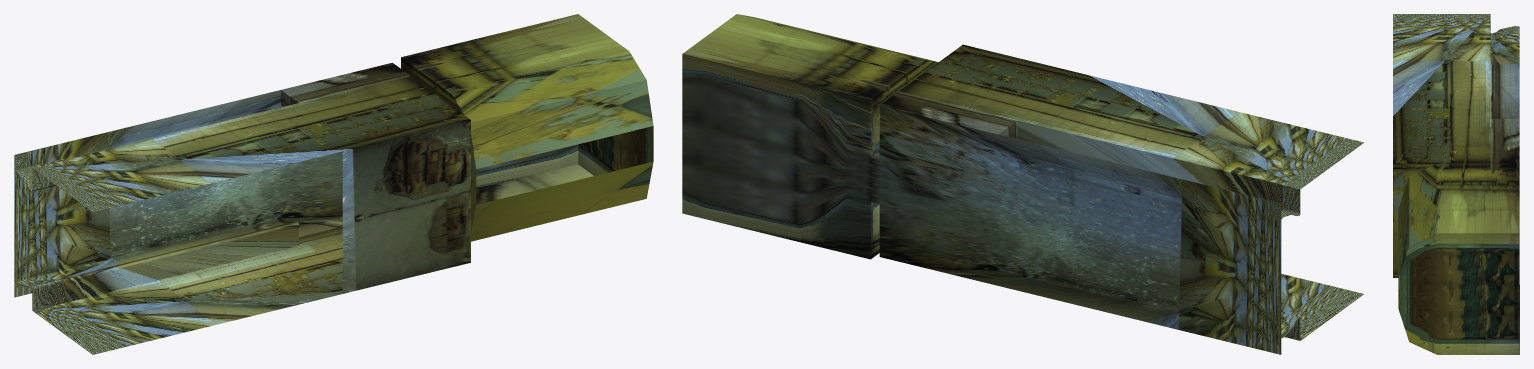
The model's file is Sink Room.fbx.
3 renders of one model, left to right at view 1: azimuth 30°, elevation 25°; view 2: azimuth 150°, elevation 25°; view 3: azimuth 270°, elevation 25°, orthographic. The views are drawn at different scales.
Visible parts, largest first — view 1: Box001; view 2: Box001; view 3: Box001.
Part boxes in pixels (x1,y1,x2,y2): Box001: [14, 14, 653, 354]; Box001: [682, 14, 1364, 354]; Box001: [1393, 14, 1519, 354].
Size of the model in its own units: 368 by 94.02 by 88.73.
